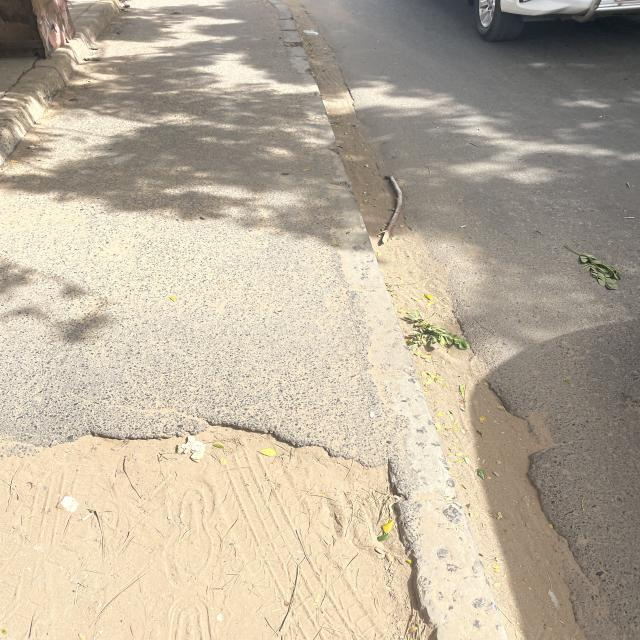particulier: (457, 1, 640, 52)
